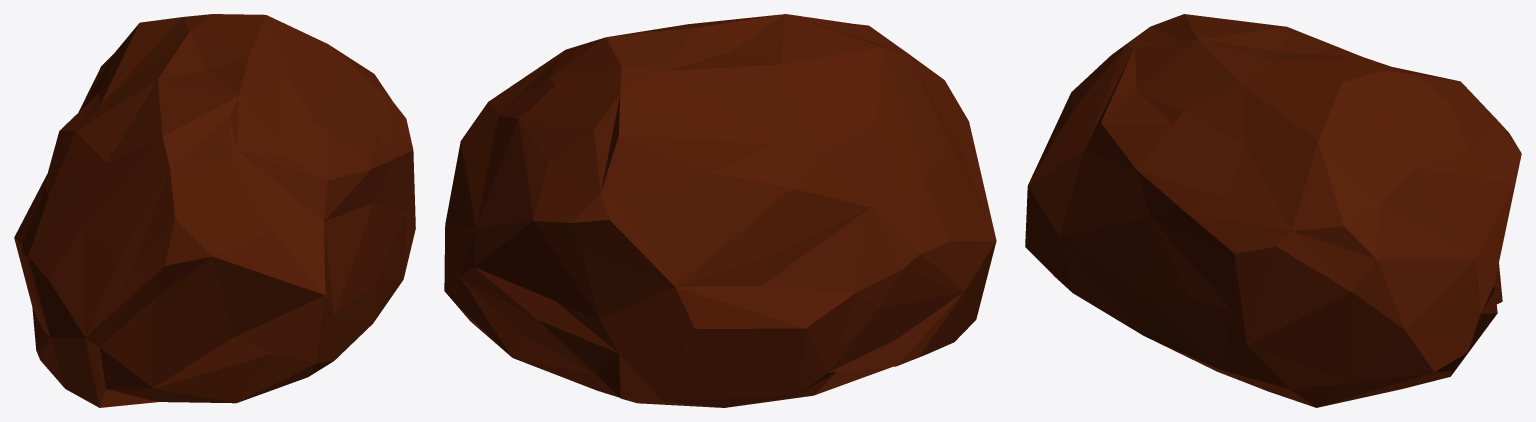
Rendered from Stone_01.glb.
3 views of the same model, side by side, from view 1: azimuth 30°, elevation 25°; view 2: azimuth 150°, elevation 25°; view 3: azimuth 270°, elevation 25° (orthographic). The views are drawn at different scales.
Visible parts, largest first — view 1: Stone_01; view 2: Stone_01; view 3: Stone_01.
Part boxes in pixels (bbox=[...]): Stone_01: bbox=[14, 14, 415, 407]; Stone_01: bbox=[444, 14, 996, 407]; Stone_01: bbox=[1025, 14, 1521, 407].
Size of what is drawn, in the model's own units: 1.94 by 1.3 by 2.01.
Materials: 1 (1 with a texture image).
